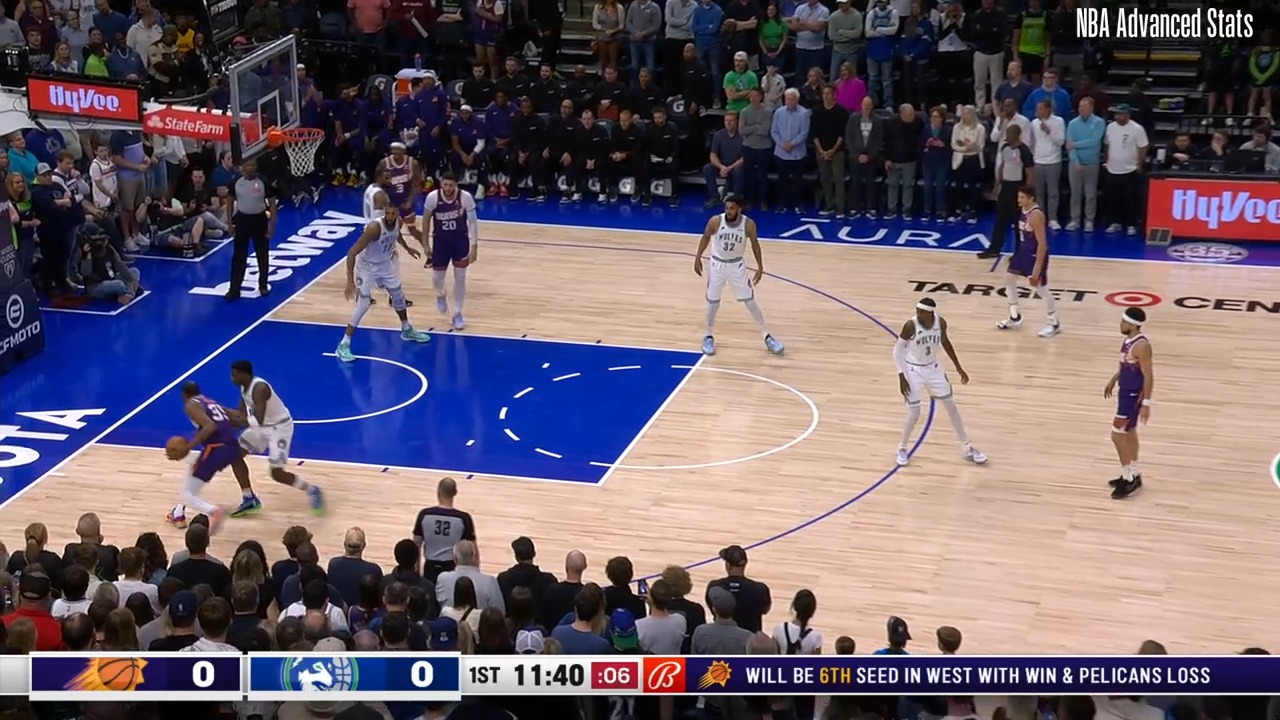basketball: (165, 433, 191, 463)
